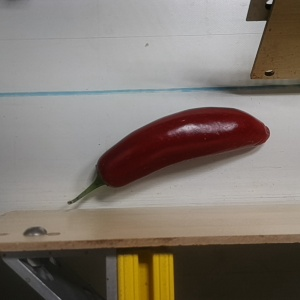Cut Point: (88, 157, 124, 192)
